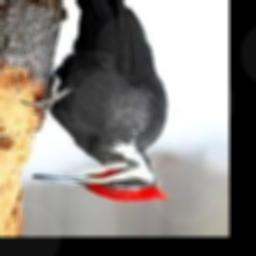Woodpecker: (20, 0, 166, 201)
